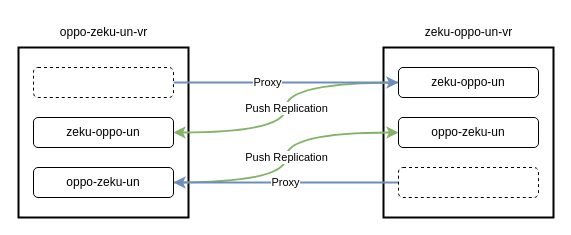
The diagram is 571 pixels wide and 235 high, and some of its shapes have lost their labels. The shapes that lost their labels are listed below. From the top down, each one's box as (x1, y1, x2, y2) in pixels, then its label:
(32, 66, 174, 98): oppo-zeku-un-remote
(398, 166, 538, 198): zeku-oppo-un-remote
